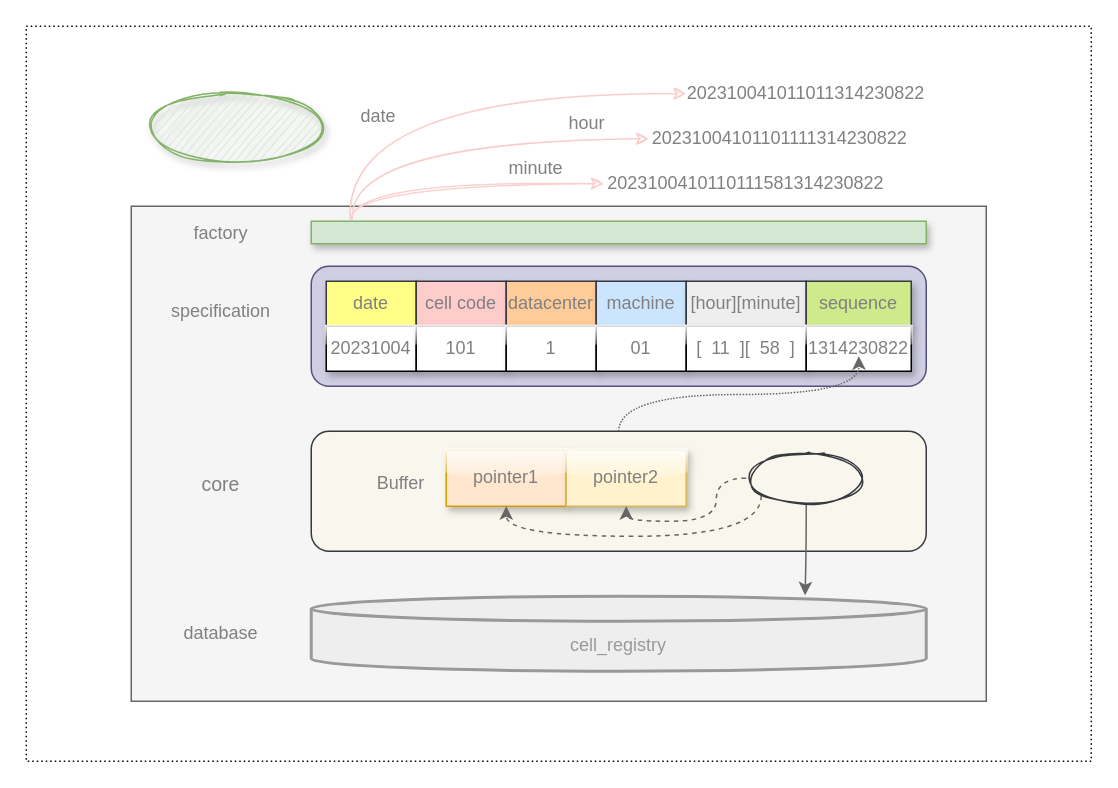
Some shapes in this 1118 by 788 pixel diagram are drawn without their labels. The centre of each missing label's shape, as x and y in pixels:
"Cell - 细胞" goes at point (237, 129).
"facade api : generate cell id by cell name" goes at point (619, 234).
"Pool" goes at point (805, 477).
